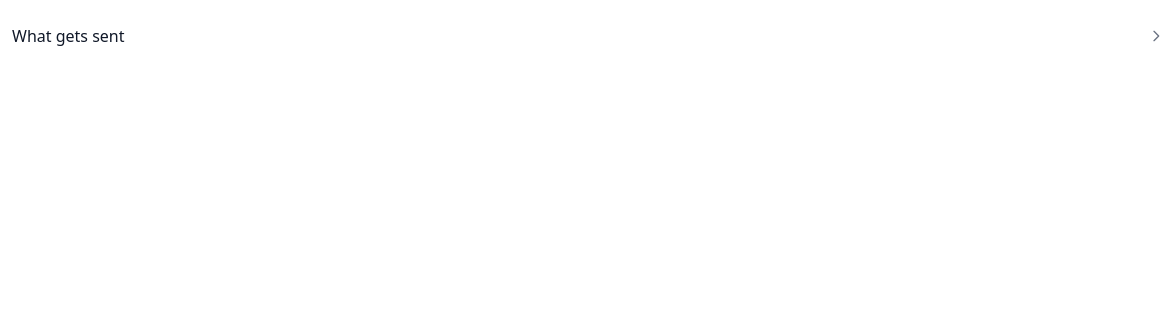
Test case: what gets sent › shows an example rather than a number it does not have
Click the button: (68, 36) [12,12,1164,60]
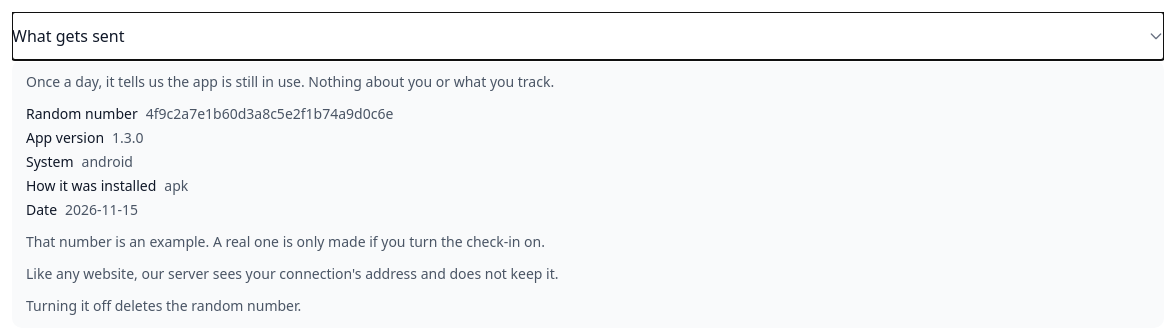
Check: the text "4f9c2a7e1b60d3a8c5e2f1b74a9d0c6e" is shown, box [146,104,393,124]
